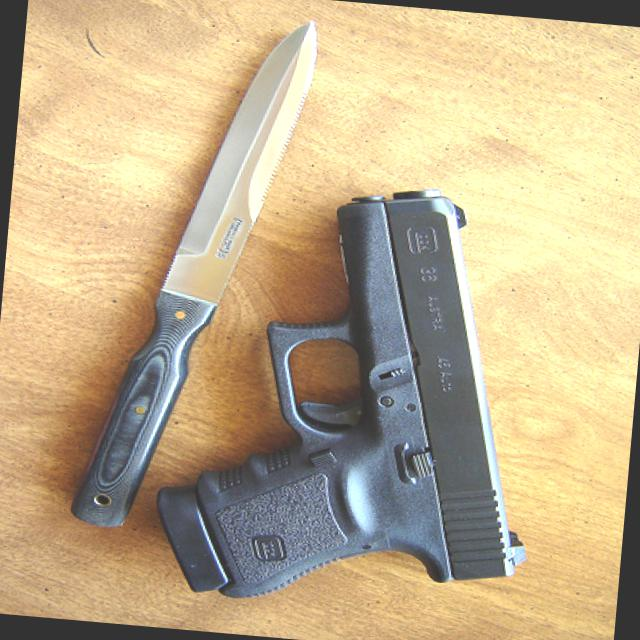handgun: (148, 162, 564, 622)
